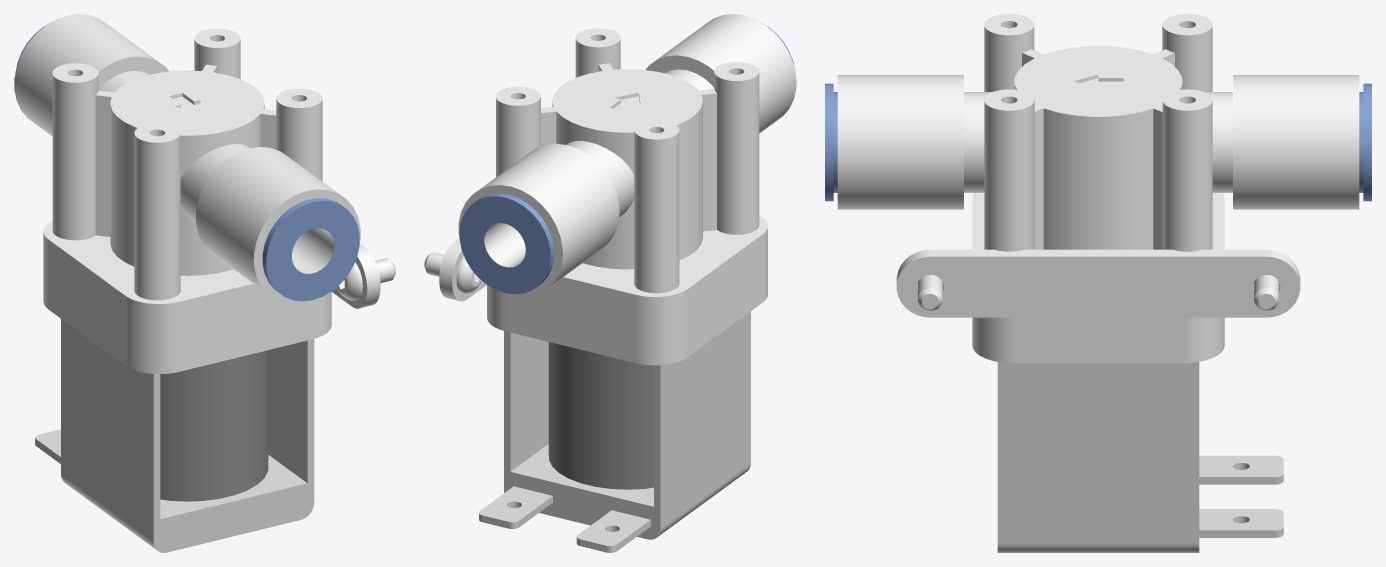
Rendered from solenoid_valve_v19.glb.
The picture shows the model from 3 angles, left to right: view 1: azimuth 30°, elevation 25°; view 2: azimuth 150°, elevation 25°; view 3: azimuth 270°, elevation 25°; orthographic projection. The views are drawn at different scales.
Parts seen in each view (by area): view 1: M3 x 6mm Screw; view 2: M3 x 6mm Screw; view 3: M3 x 6mm Screw.
Part boxes in pixels (x1,y1,x2,y2): M3 x 6mm Screw: (14, 14, 395, 552); M3 x 6mm Screw: (424, 14, 796, 552); M3 x 6mm Screw: (825, 14, 1371, 552).
Size of the model in its own units: 0.034 by 0.0595 by 0.065.
Materials: 1 (1 with a texture image).
